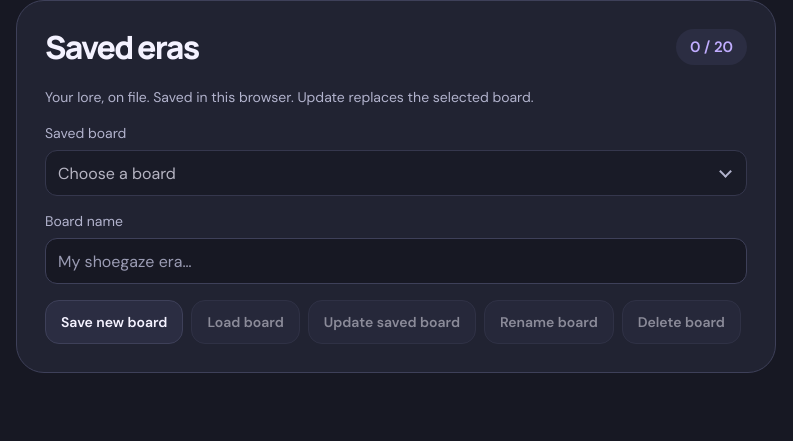
Saved boards › rejects duplicate names and preserves existing snapshots when storage fails
Type "Favorites" into the field labelled "Board name" at (396, 261), box [45, 238, 747, 284]
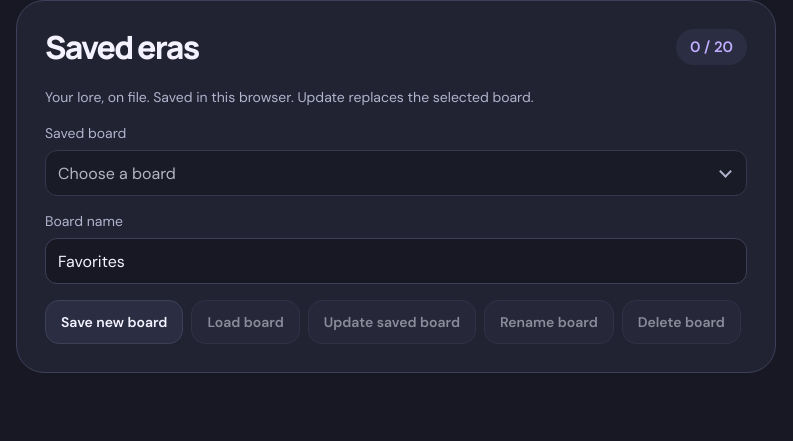
Click the button "Save new board" at (114, 322), box [45, 300, 183, 344]
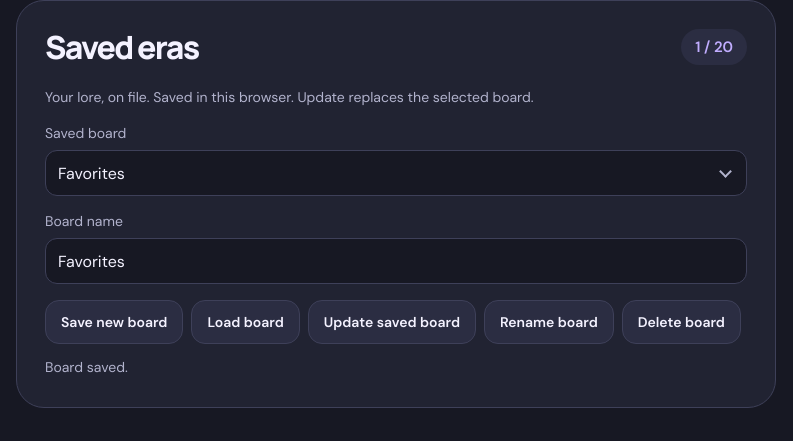
Replace the text in the field labelled "Board name" with "favorites" at (396, 261), box [45, 238, 747, 284]
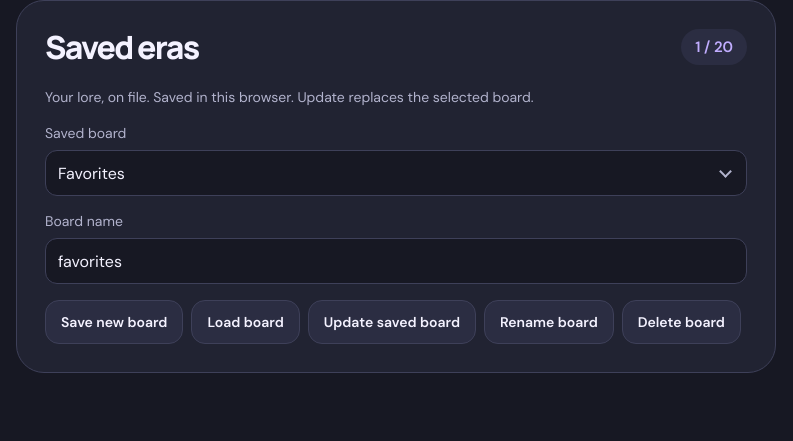
Click the button "Save new board" at (114, 322), box [45, 300, 183, 344]
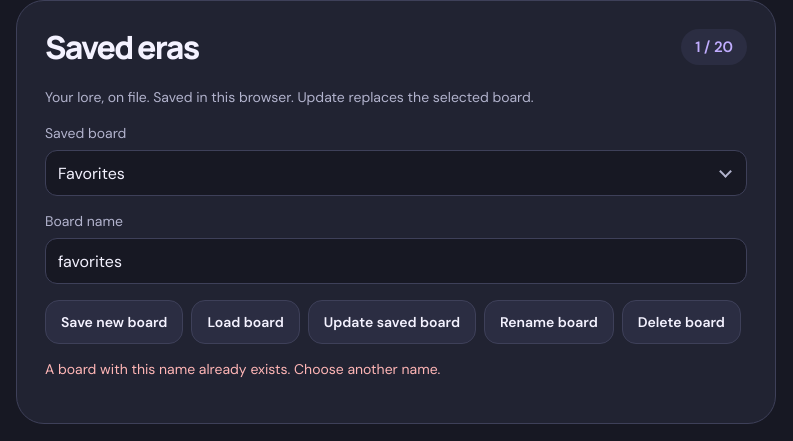
Expected: the message shows "already exists", [45, 360, 440, 378]
Replace the text in the field labelled "Board name" with "Another" at (396, 261), box [45, 238, 747, 284]
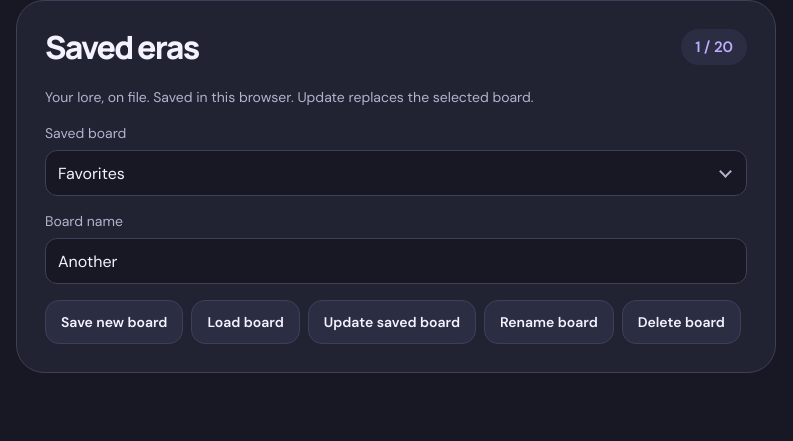
Click the button "Save new board" at (114, 322), box [45, 300, 183, 344]
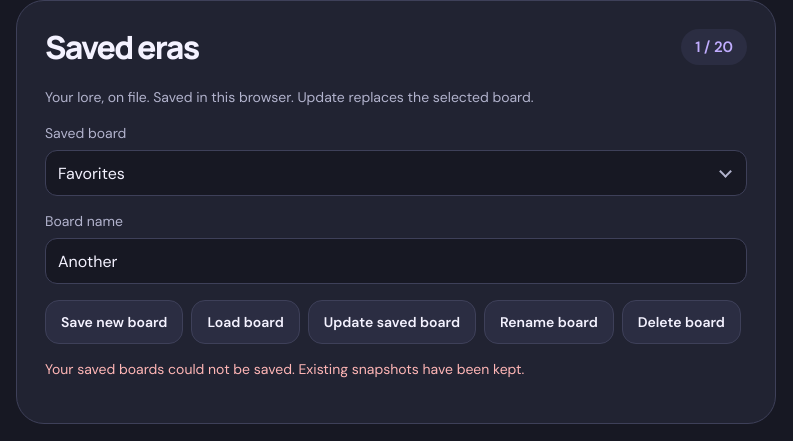
Expected: the message shows "could not be saved", [45, 360, 524, 378]
